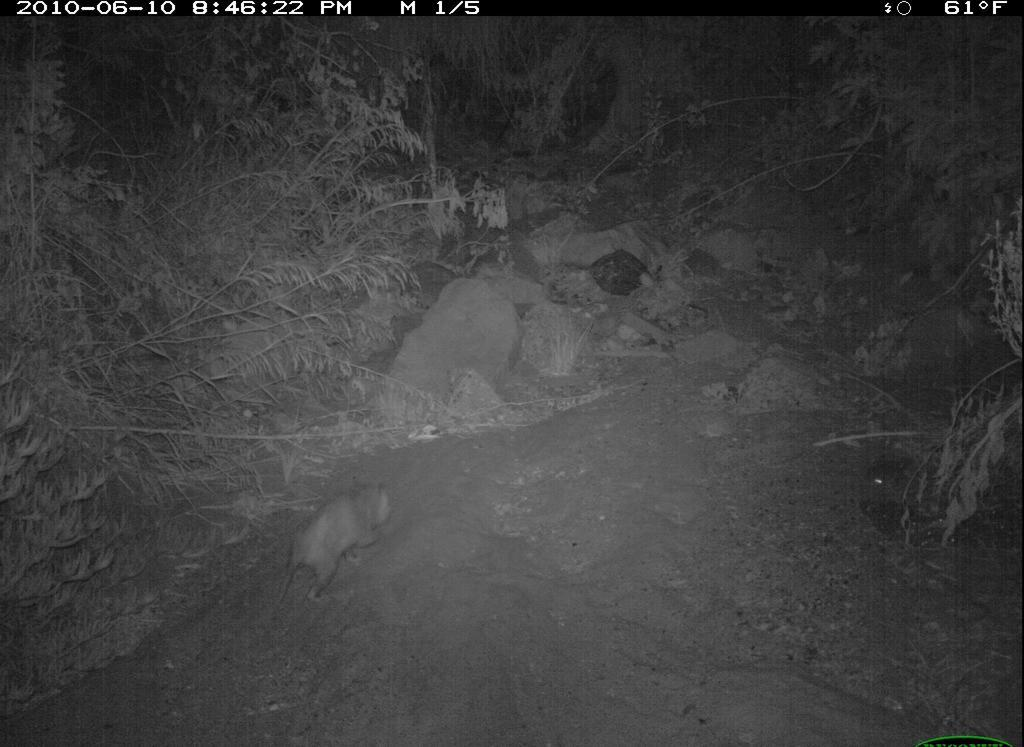opossum: (263, 473, 405, 617)
